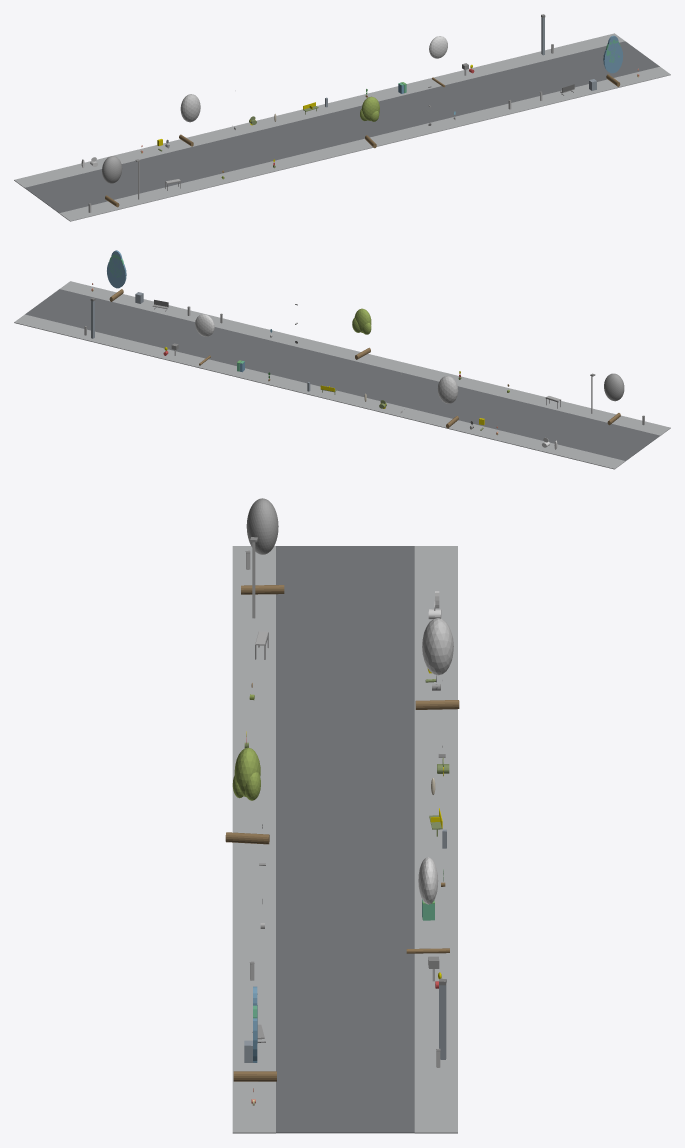
3 views of the same model, one above another, from view 1: azimuth 30°, elevation 25°; view 2: azimuth 150°, elevation 25°; view 3: azimuth 270°, elevation 25° (orthographic). The views are drawn at different scales.
Parts seen in each view (by area): view 1: road_slab, sidewalk_left, sidewalk_right, inst_0016, inst_0013, inst_0012, inst_0014, inst_0015; view 2: road_slab, sidewalk_right, sidewalk_left, inst_0016, inst_0013, inst_0012, inst_0014, inst_0015; view 3: road_slab, sidewalk_left, sidewalk_right, inst_0013, inst_0012, inst_0014, inst_0015.
Boxes of the visible parts, x1,y1,x2,y2 form: road_slab: [25, 41, 659, 213]; sidewalk_left: [59, 66, 670, 221]; sidewalk_right: [14, 33, 624, 188]; inst_0016: [603, 35, 623, 86]; inst_0013: [179, 94, 200, 146]; inst_0012: [102, 156, 122, 207]; inst_0014: [360, 96, 379, 148]; inst_0015: [429, 36, 447, 87]; road_slab: [25, 289, 659, 461]; sidewalk_right: [14, 314, 625, 469]; sidewalk_left: [60, 281, 670, 435]; inst_0016: [107, 250, 126, 301]; inst_0013: [437, 376, 458, 428]; inst_0012: [604, 373, 624, 425]; inst_0014: [352, 308, 371, 359]; inst_0015: [195, 314, 214, 365]; road_slab: [276, 546, 414, 1133]; sidewalk_left: [232, 546, 275, 1133]; sidewalk_right: [414, 546, 457, 1133]; inst_0013: [415, 618, 459, 709]; inst_0012: [241, 498, 284, 594]; inst_0014: [225, 747, 269, 844]; inst_0015: [406, 857, 449, 953].
Size of the model in its own units: 80 by 6.08 by 13.47.
